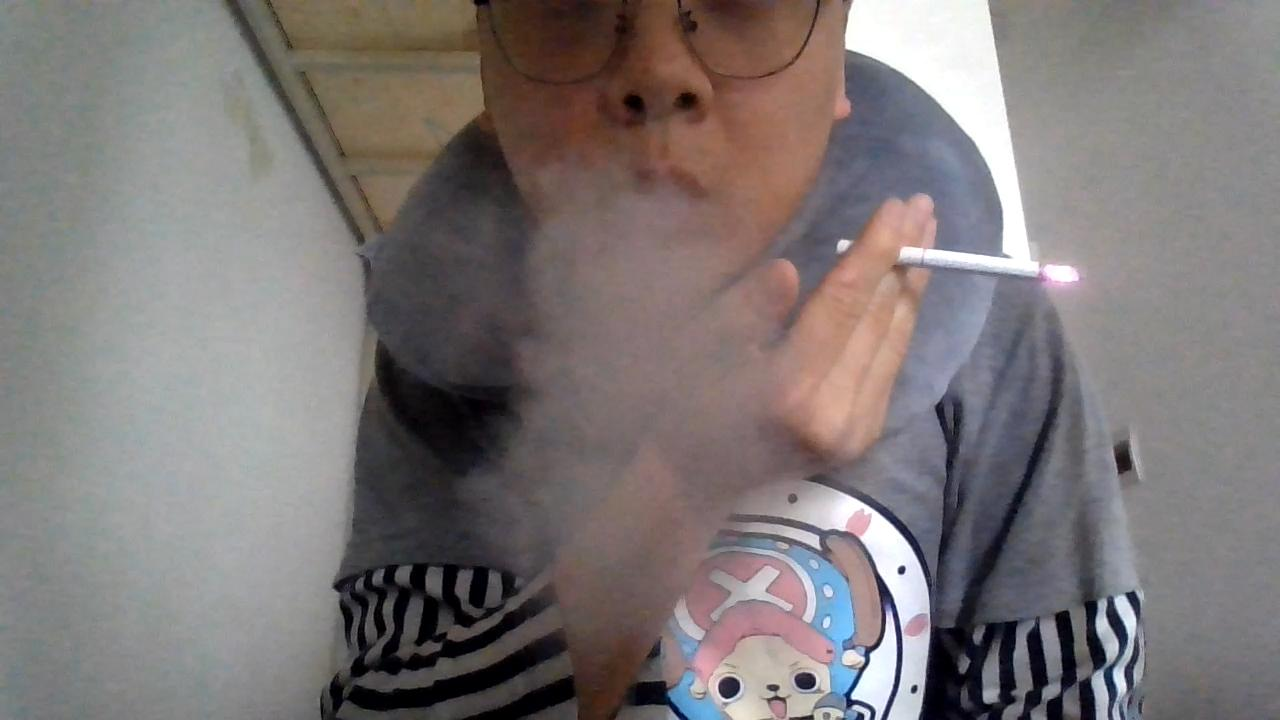yanwu: (464, 186, 792, 632)
